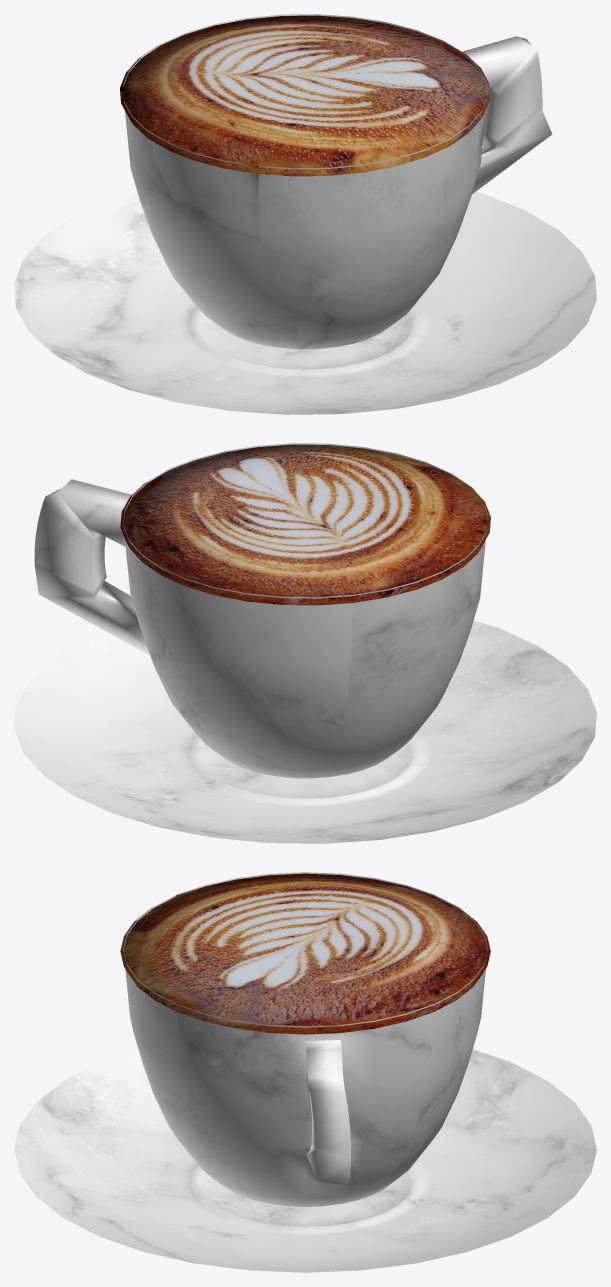
The model's file is cangkir-big.gltf.
The picture shows the model from 3 angles, top to bottom: view 1: azimuth 30°, elevation 25°; view 2: azimuth 150°, elevation 25°; view 3: azimuth 270°, elevation 25°; orthographic projection.
Parts seen in each view (by area): view 1: Circle, Cylinder, Cylinder.001; view 2: Circle, Cylinder, Cylinder.001; view 3: Circle, Cylinder, Cylinder.001.
Boxes of the visible parts, left/top/right/bottom form: Circle: left=14, top=191, right=596, bottom=414; Cylinder: left=123, top=14, right=552, bottom=349; Cylinder.001: left=120, top=15, right=490, bottom=176; Circle: left=14, top=620, right=596, bottom=843; Cylinder: left=34, top=443, right=487, bottom=778; Cylinder.001: left=120, top=444, right=490, bottom=605; Circle: left=14, top=1049, right=596, bottom=1272; Cylinder: left=123, top=872, right=487, bottom=1206; Cylinder.001: left=120, top=873, right=490, bottom=1034.
Bounding box in the file's own units: 104 × 48.7 × 104.
Materials: 3 (3 with a texture image).
